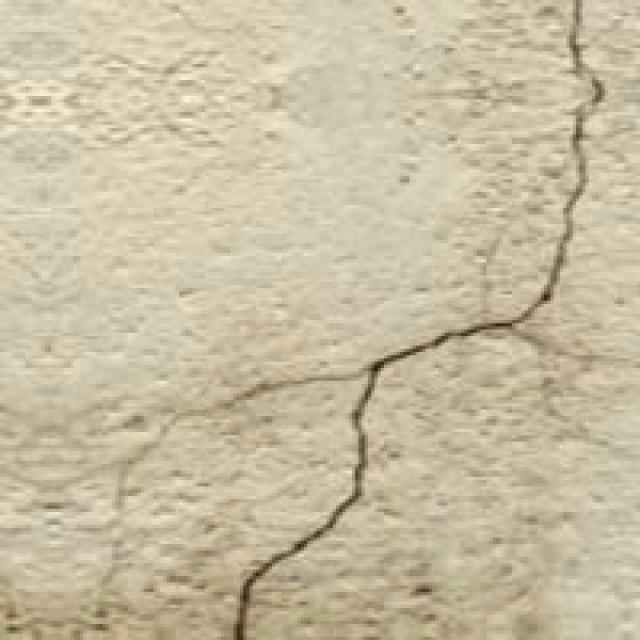SurfaceCrack: (208, 0, 626, 640)
